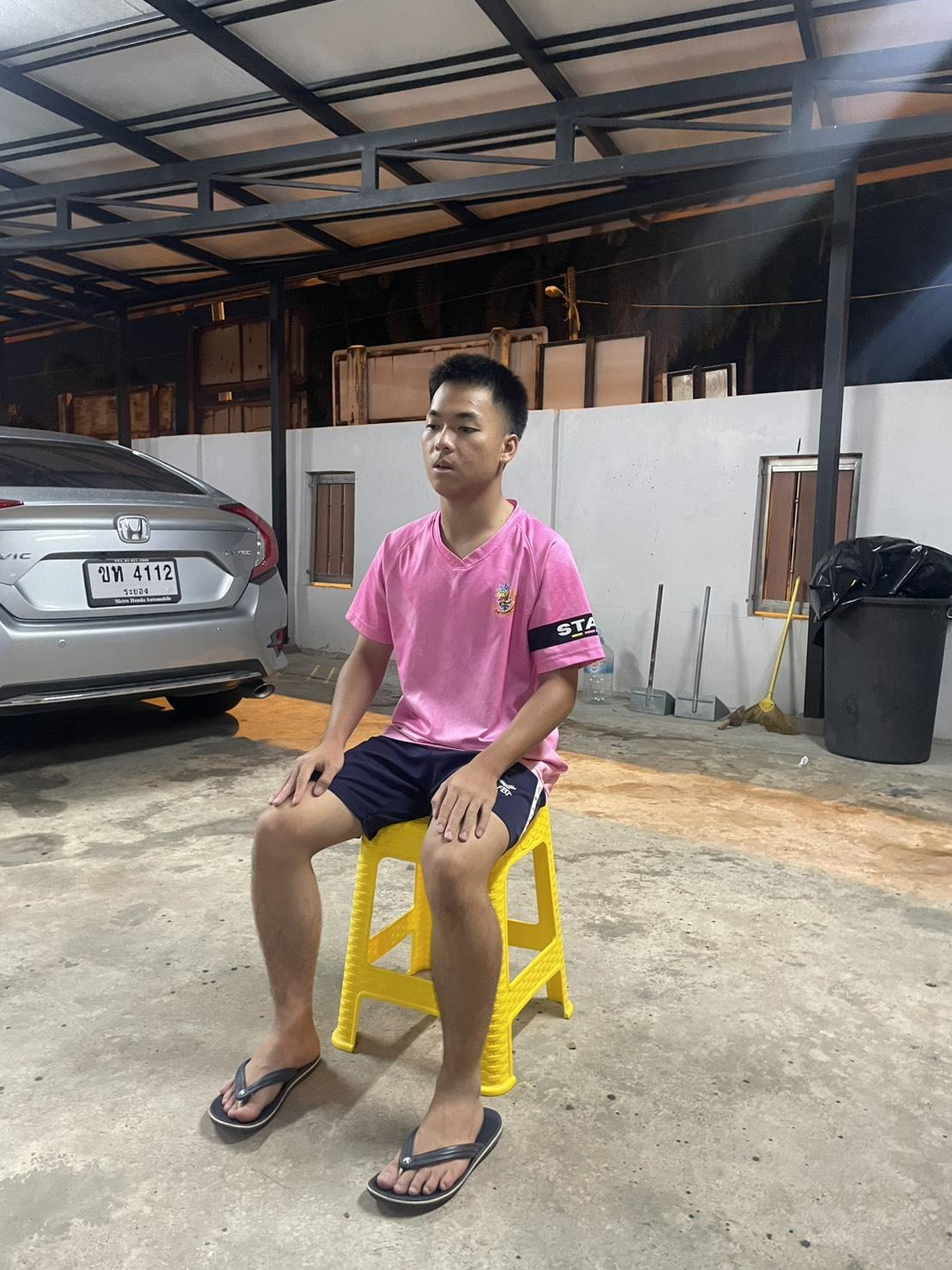GoodPosture: (210, 354, 601, 1206)
